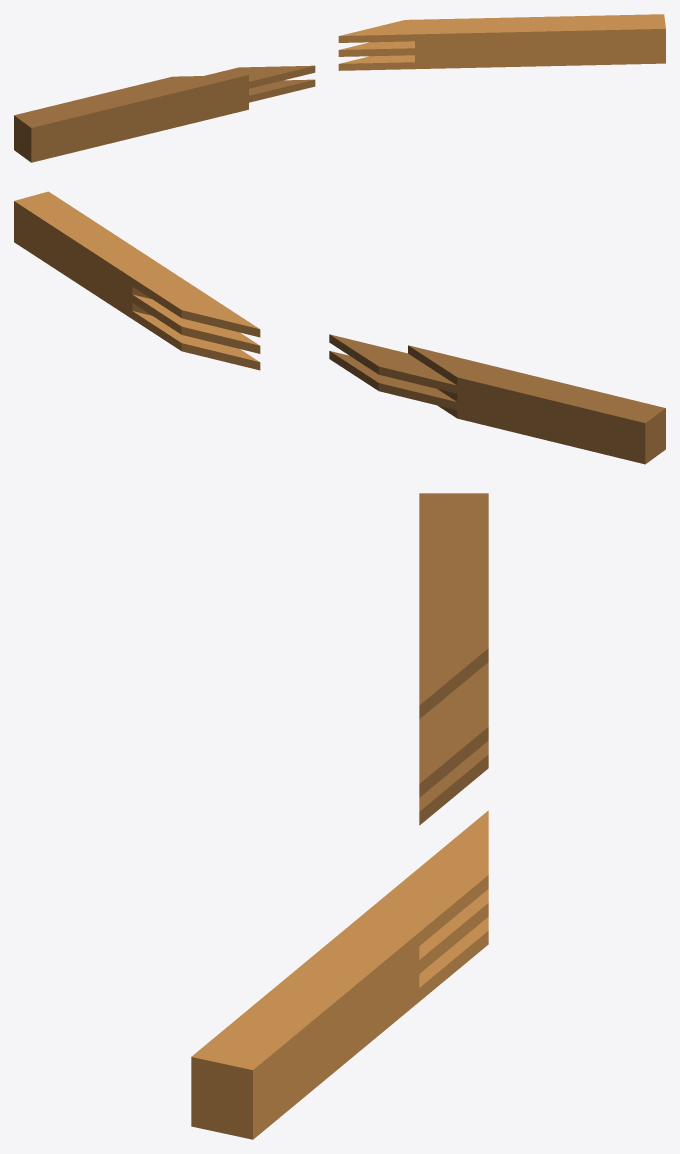
The picture shows the model from 3 angles, top to bottom: view 1: azimuth 30°, elevation 25°; view 2: azimuth 150°, elevation 25°; view 3: azimuth 270°, elevation 25°; orthographic projection. The views are drawn at different scales.
Bounding box in the file's own units: 2.14 × 0.12 × 0.4653.
